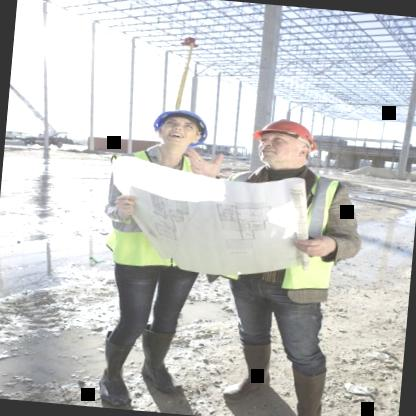helmet: (242, 108, 328, 180), (142, 89, 220, 168)
